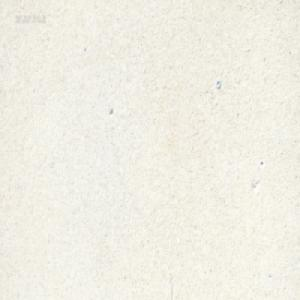Washer: (215, 77, 221, 88)
